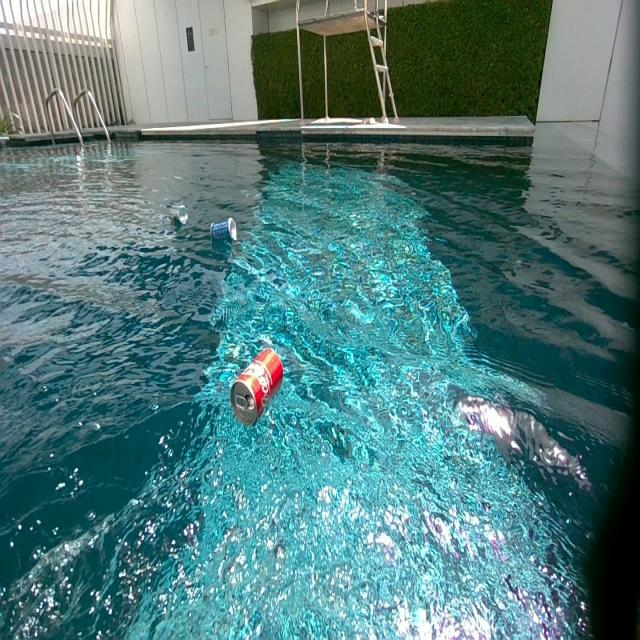Cans: (233, 346, 285, 426), (210, 218, 238, 244), (172, 207, 188, 225)
